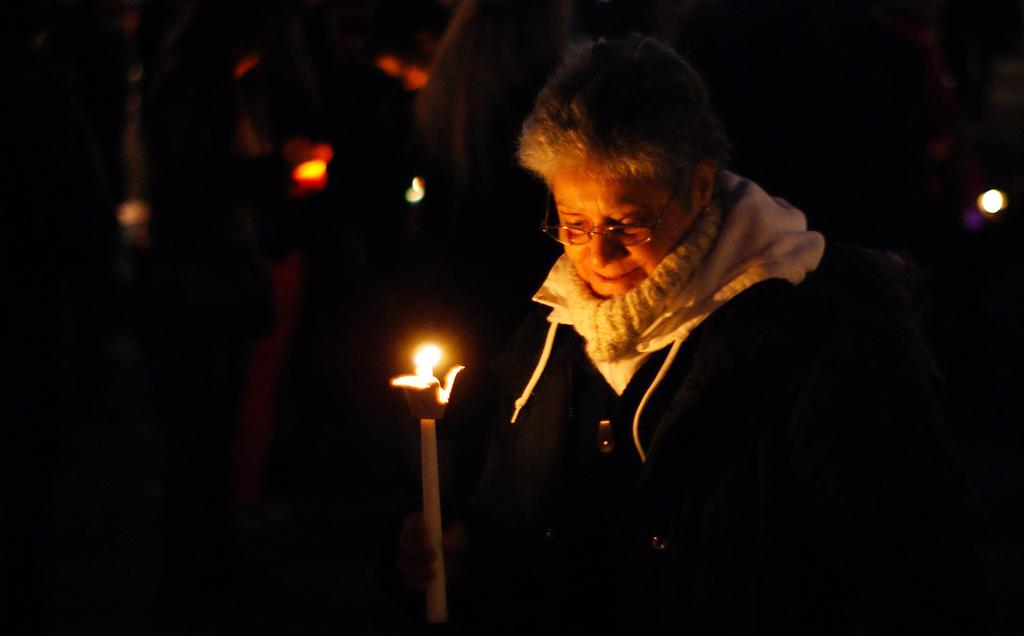fire: (410, 340, 448, 378)
